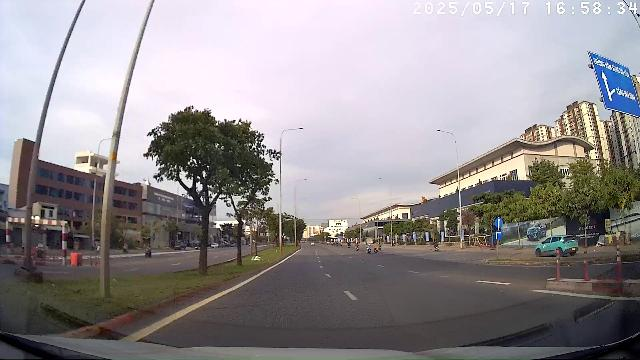301a-cac-xe-chi-duoc-di-thang: (494, 217, 503, 228)
301b-cac-xe-chi-duoc-re-phai: (494, 230, 503, 240)
